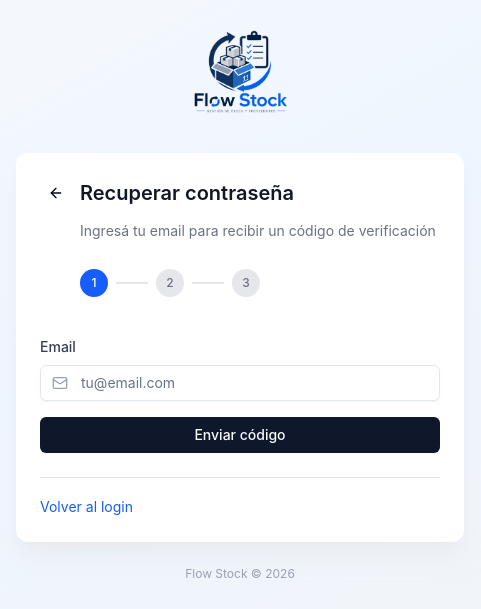
Test: ResetPasswordPage › Paso 1 - Email › valida email inválido
This screenshot has width=481, height=609.
Click the button "Enviar código" at (240, 434), box [40,416,440,452]
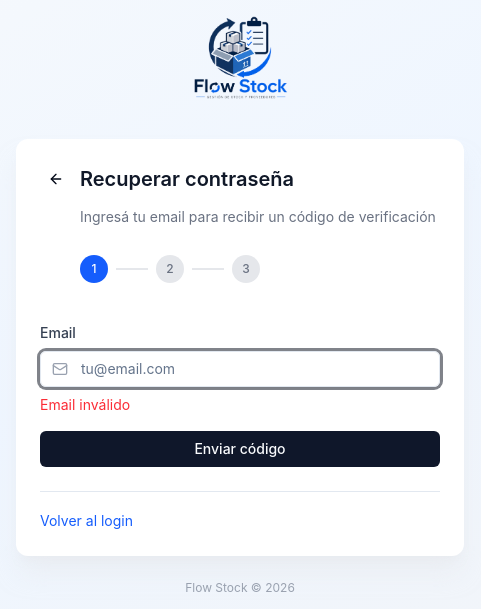
Result: the text "Email inválido" is shown at [40,396,130,412]
